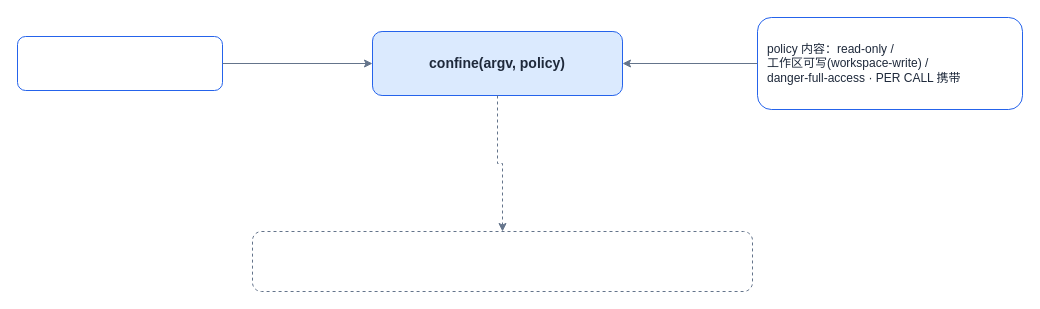
Image size: 1040x309. Some labels were removed from this diagram. Here are the shapes that lost their labels. From the top down, the centre of each, then its label:
At point 119,63: "argv 包装产物 (ConfinedArgv)".
At point 502,261: "无可用后端 → 专用错误码 SANDBOX_UNAVAILABLE， 调用方区分缺沙箱与命令失败".
